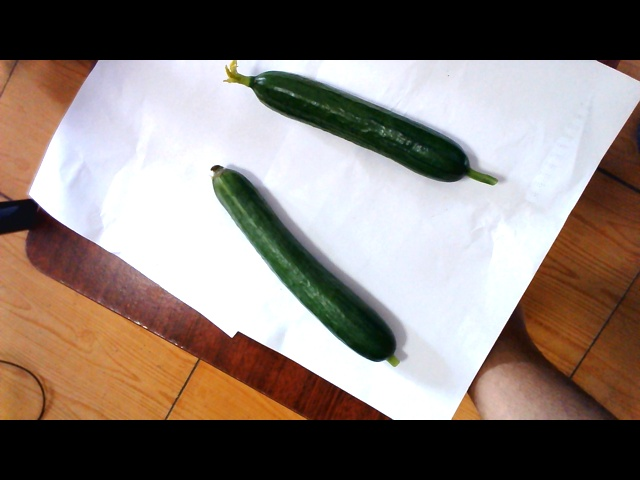cucumber: (207, 164, 403, 363), (224, 66, 492, 173)
